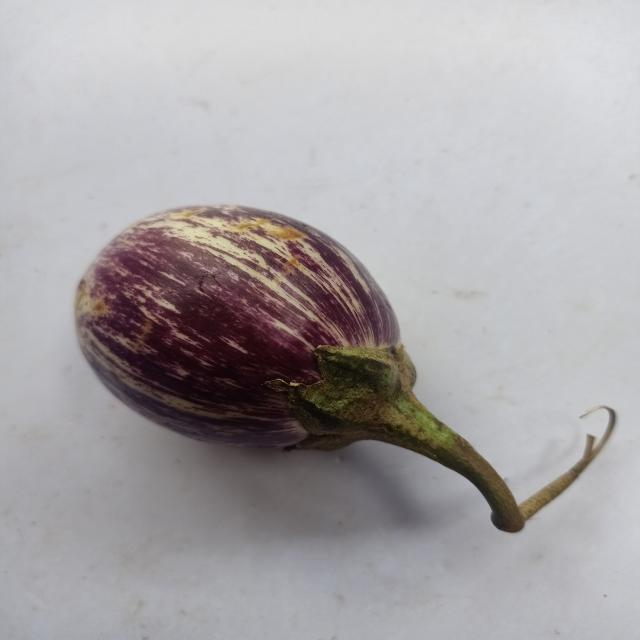Eggplant: (66, 191, 634, 544)
